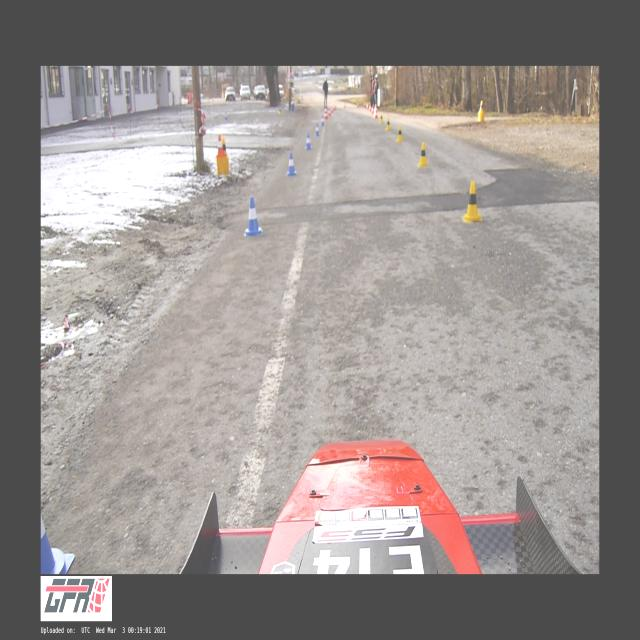blue_cone: (40, 514, 74, 574), (244, 197, 262, 236), (286, 153, 296, 175), (305, 134, 312, 150), (315, 124, 319, 136), (320, 116, 324, 126)
large_orange_cone: (373, 104, 378, 118), (324, 106, 328, 119)
orange_cone: (217, 134, 225, 156)
yellow_cone: (462, 182, 482, 222), (418, 142, 428, 166), (397, 125, 403, 141), (386, 118, 391, 130), (479, 100, 483, 111), (380, 113, 383, 122)
